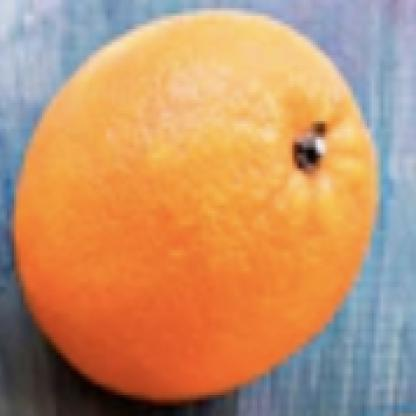fresh: (12, 14, 375, 404)
